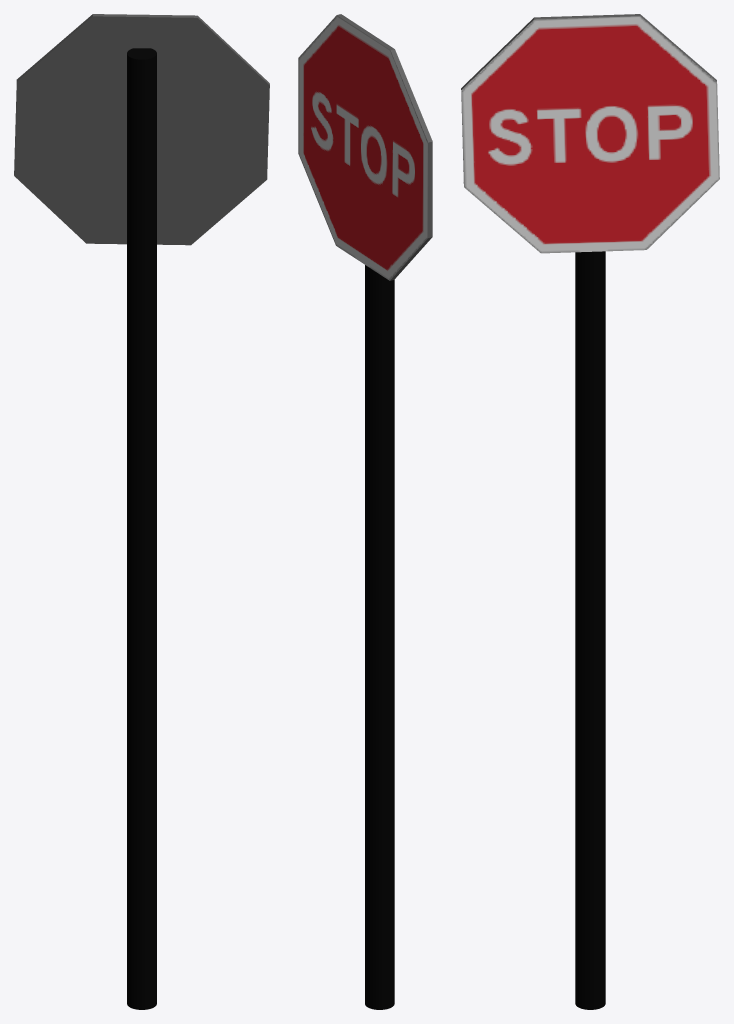
File: Sign_stop.fbx
3 views of the same model, side by side, from view 1: azimuth 90°, elevation 25°; view 2: azimuth 210°, elevation 25°; view 3: azimuth 270°, elevation 25° (orthographic). The views are drawn at different scales.
Parts seen in each view (by area): view 1: Sign_Stop, Pole_Stop; view 2: Sign_Stop, Pole_Stop; view 3: Sign_Stop, Pole_Stop.
Boxes of the visible parts, left/top/right/bottom form: Sign_Stop: left=14, top=14, right=269, bottom=245; Pole_Stop: left=127, top=48, right=156, bottom=1009; Sign_Stop: left=298, top=14, right=432, bottom=280; Pole_Stop: left=365, top=265, right=394, bottom=1009; Sign_Stop: left=461, top=14, right=719, bottom=253; Pole_Stop: left=575, top=251, right=605, bottom=1009.
Size of the model in its own units: 6.07 by 174 by 41.08.
Materials: 2 (1 with a texture image).
